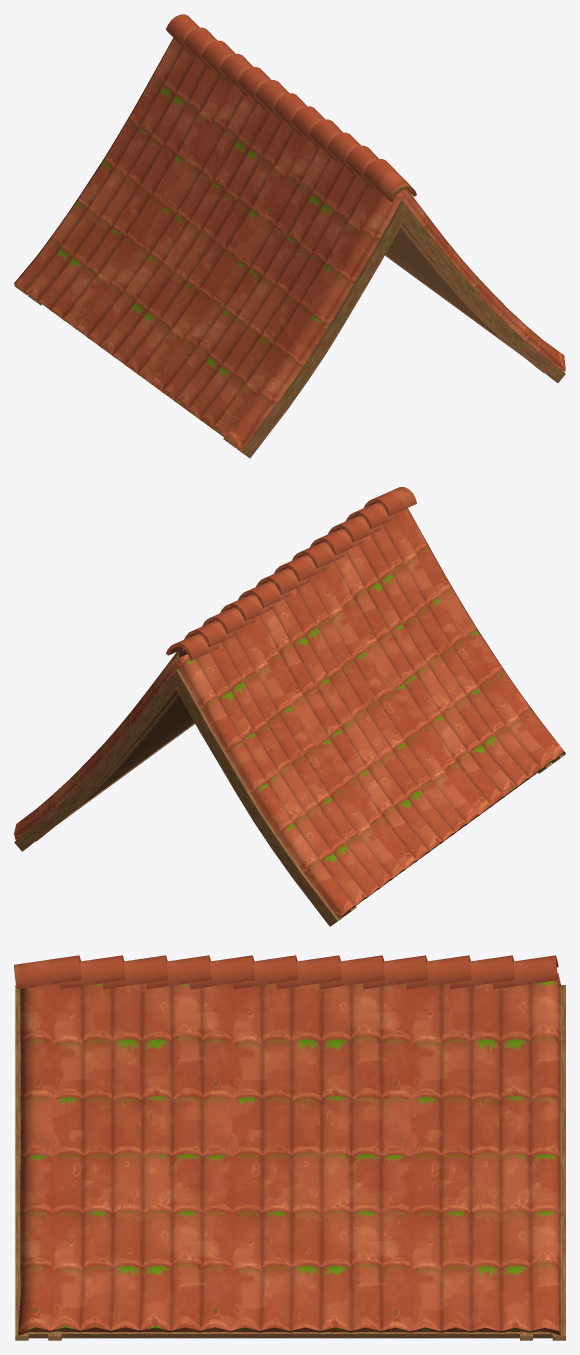
File: Roof_RoundTiles_6x8.glb
The picture shows the model from 3 angles, top to bottom: view 1: azimuth 30°, elevation 25°; view 2: azimuth 150°, elevation 25°; view 3: azimuth 270°, elevation 25°; orthographic projection. The views are drawn at different scales.
Parts seen in each view (by area): view 1: Roof_RoundTiles_6x8; view 2: Roof_RoundTiles_6x8; view 3: Roof_RoundTiles_6x8.
Part boxes in pixels (box(x1,y1,x2,y2)): Roof_RoundTiles_6x8: box(14, 14, 565, 458); Roof_RoundTiles_6x8: box(14, 487, 565, 926); Roof_RoundTiles_6x8: box(14, 955, 565, 1340).
Bounding box in the file's own units: 8.25 × 5.67 × 9.68.
2 materials, 2 textured.
